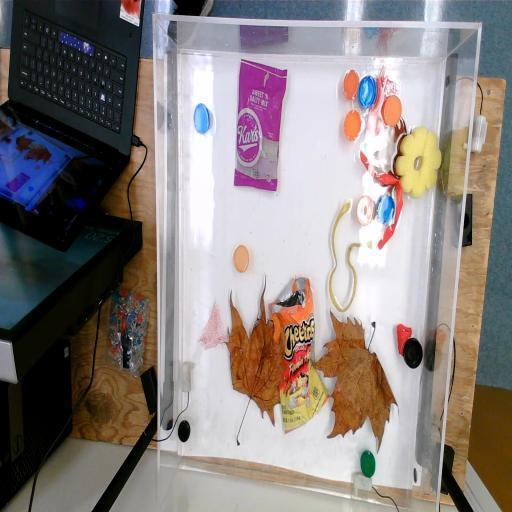Bottle Cap: (402, 336, 424, 372), (381, 92, 402, 128), (376, 192, 396, 228), (192, 101, 212, 136), (343, 108, 362, 142), (358, 74, 377, 108), (356, 194, 375, 226), (342, 68, 360, 100), (233, 244, 250, 274), (360, 449, 376, 478), (178, 418, 190, 443)
Cone Cap: (396, 322, 412, 358)
Leaf: (310, 308, 399, 454), (222, 272, 290, 448), (372, 114, 414, 192)
Netting: (366, 64, 398, 138), (198, 298, 230, 352)
Plastic Bag: (268, 274, 330, 436), (233, 58, 288, 192)
Plastic Strand: (328, 199, 373, 313), (358, 148, 404, 252)
Sponge: (394, 126, 442, 198)
